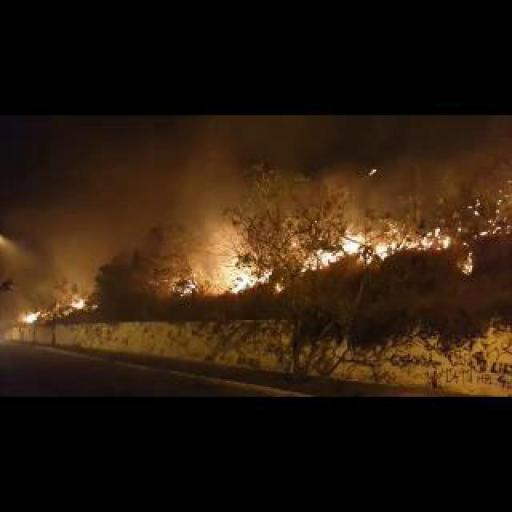smoke: (298, 226, 448, 274), (221, 259, 269, 291), (459, 252, 477, 274), (178, 274, 196, 296), (20, 310, 42, 324), (70, 300, 85, 310)
